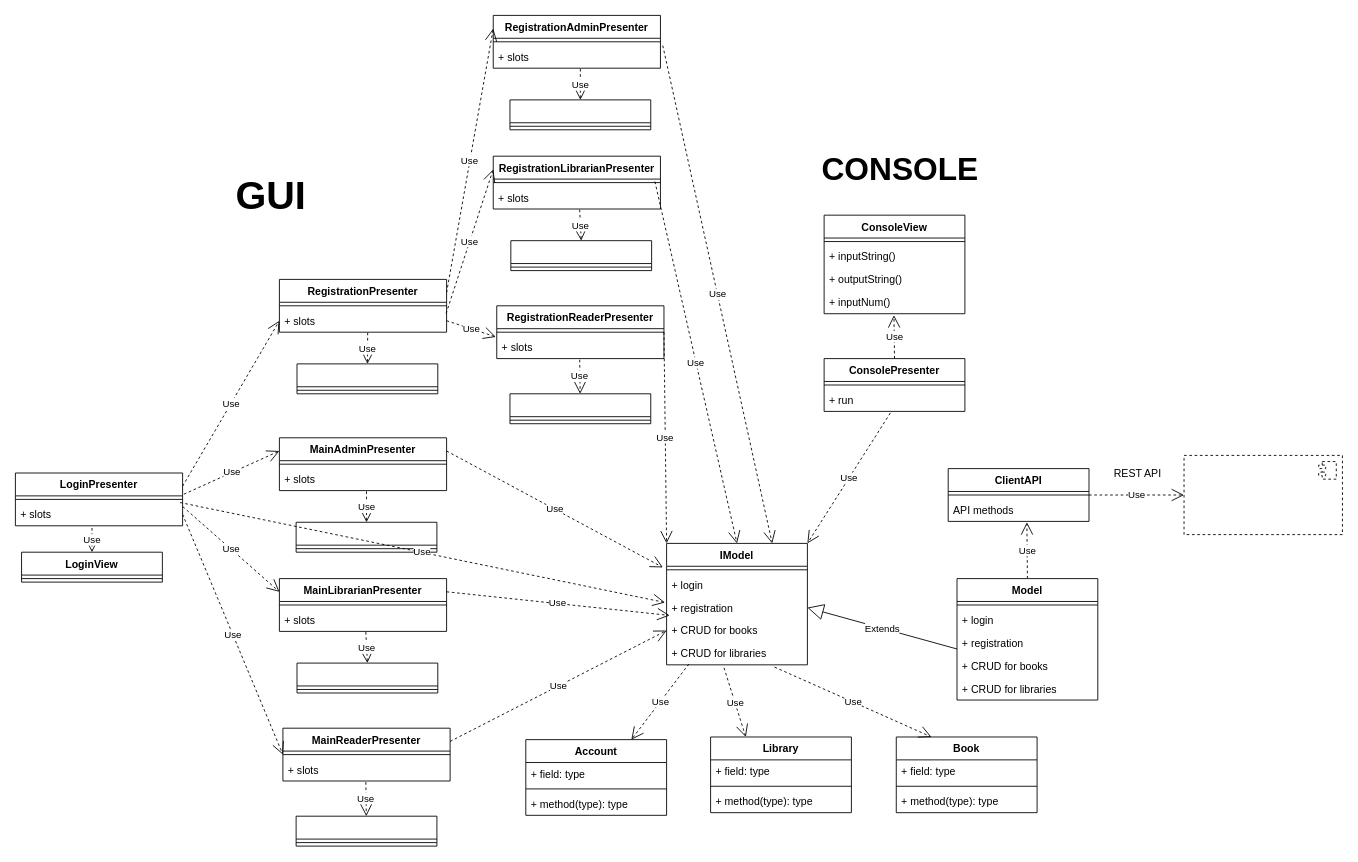
The diagram is 1358 pixels wide and 862 high, and some of its shapes have lost their labels. The shapes that lost their labels are listed below. From the top down, each one's centre as x and y in pixels, then its label:
point (580, 114): RegistrationAdminView
point (581, 255): RegistrationLibrarianView
point (367, 378): RegistrationView
point (580, 408): RegistrationReaderView
point (1262, 495): LOGIC COMPONENT
point (366, 536): MainAdminView
point (367, 677): MainLibrarianView
point (366, 830): MainReaderView
